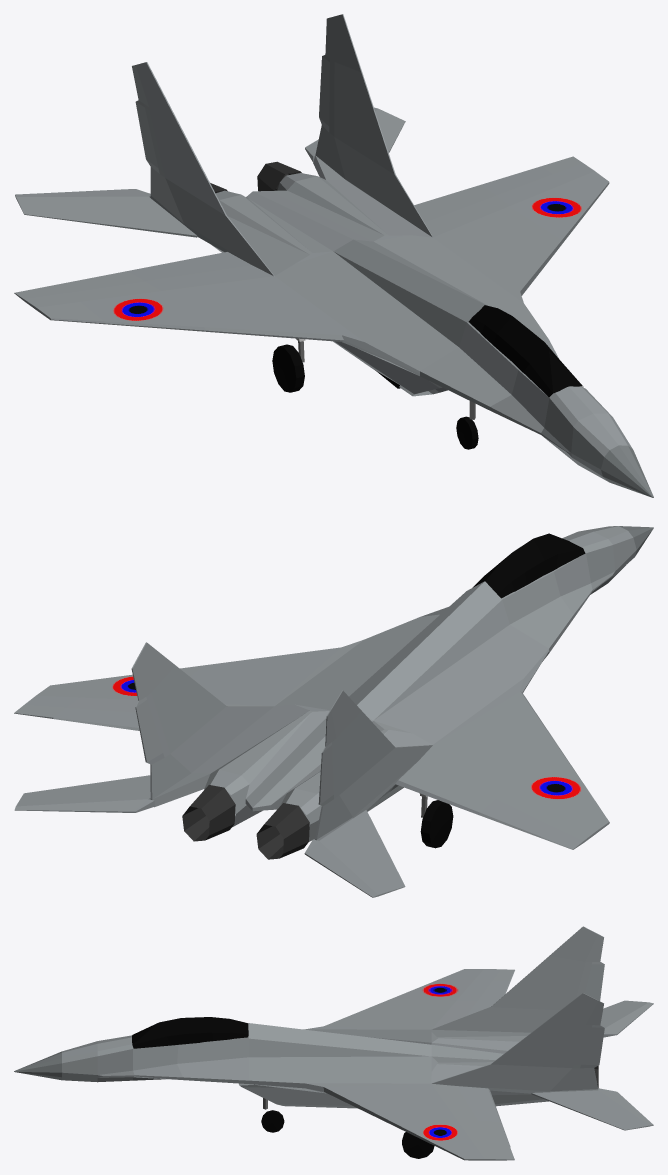
The picture shows the model from 3 angles, top to bottom: view 1: azimuth 30°, elevation 25°; view 2: azimuth 150°, elevation 25°; view 3: azimuth 270°, elevation 25°; orthographic projection. The views are drawn at different scales.
Parts seen in each view (by area): view 1: Circle.001, R_elevator.001, Wwindshield.001, R_Flap.001, Landing gear_RR.001, L_Flap.001, L_Rudder.001, R_Rudder.001, R_ailerone.001, L_ailerone.001, L_Elevator.001, Landing gear_F.001; view 2: Circle.001, R_elevator.001, L_Elevator.001, Wwindshield.001, R_Flap.001, L_Rudder.001, Landing gear_RR.001, R_ailerone.001, L_ailerone.001, R_Rudder.001; view 3: Circle.001, Wwindshield.001, L_Elevator.001, R_elevator.001, L_Rudder.001, L_Flap.001, R_Rudder.001, Landing gear_RL.001, L_ailerone.001, Landing gear_F.001, R_ailerone.001.
Boxes of the visible parts, x1=… form: Circle.001: x1=14, y1=14, x2=653, y2=497; R_elevator.001: x1=15, y1=189, x2=197, y2=237; Wwindshield.001: x1=468, y1=305, x2=583, y2=397; R_Flap.001: x1=127, y1=252, x2=251, y2=281; Landing gear_RR.001: x1=272, y1=338, x2=305, y2=392; L_Flap.001: x1=414, y1=185, x2=495, y2=222; L_Rudder.001: x1=319, y1=54, x2=334, y2=136; R_Rudder.001: x1=135, y1=100, x2=165, y2=177; R_ailerone.001: x1=54, y1=271, x2=143, y2=292; L_ailerone.001: x1=481, y1=166, x2=552, y2=195; L_Elevator.001: x1=305, y1=107, x2=405, y2=162; Landing gear_F.001: x1=456, y1=401, x2=478, y2=449; Circle.001: x1=14, y1=526, x2=653, y2=859; R_elevator.001: x1=304, y1=810, x2=405, y2=897; L_Elevator.001: x1=14, y1=775, x2=154, y2=812; Wwindshield.001: x1=472, y1=533, x2=585, y2=598; R_Flap.001: x1=395, y1=761, x2=495, y2=814; L_Rudder.001: x1=135, y1=693, x2=170, y2=764; Landing gear_RR.001: x1=419, y1=793, x2=453, y2=848; R_ailerone.001: x1=479, y1=799, x2=552, y2=837; L_ailerone.001: x1=53, y1=708, x2=137, y2=729; R_Rudder.001: x1=318, y1=738, x2=339, y2=806; Circle.001: x1=14, y1=926, x2=603, y2=1160; Wwindshield.001: x1=132, y1=1017, x2=248, y2=1048; L_Elevator.001: x1=531, y1=1088, x2=653, y2=1130; R_elevator.001: x1=600, y1=1000, x2=653, y2=1037; L_Rudder.001: x1=572, y1=1025, x2=604, y2=1068; L_Flap.001: x1=457, y1=1086, x2=501, y2=1122; R_Rudder.001: x1=576, y1=962, x2=604, y2=1000; Landing gear_RL.001: x1=402, y1=1132, x2=434, y2=1158; L_ailerone.001: x1=478, y1=1120, x2=510, y2=1147; Landing gear_F.001: x1=261, y1=1098, x2=284, y2=1132; R_ailerone.001: x1=478, y1=980, x2=510, y2=1001.
Size of the model in its own units: 1071 by 454 by 1525.
